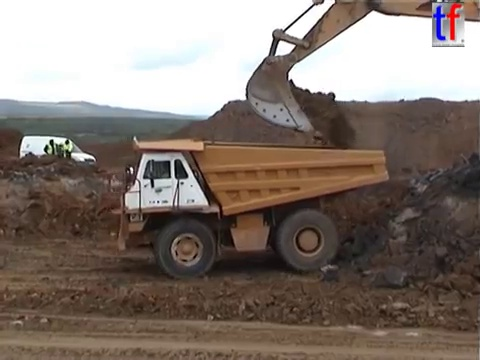excavator: (242, 1, 480, 140)
truck: (100, 133, 391, 280)
worker: (42, 136, 60, 173), (58, 136, 75, 173)
